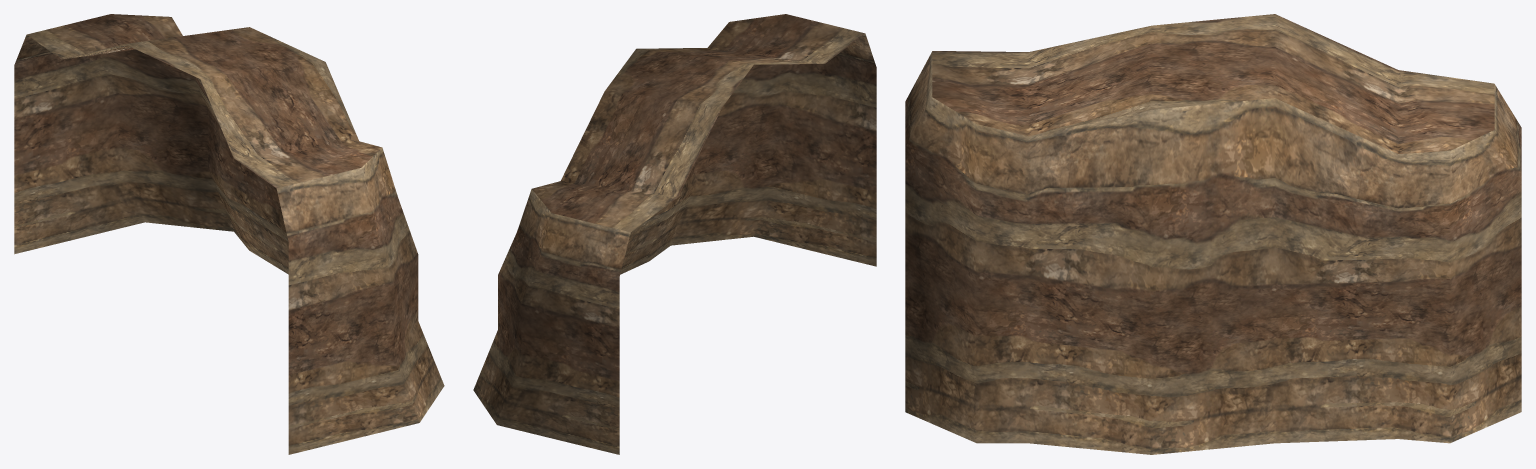
File: Canyon.fbx
The picture shows the model from 3 angles, left to right: view 1: azimuth 30°, elevation 25°; view 2: azimuth 150°, elevation 25°; view 3: azimuth 270°, elevation 25°; orthographic projection. The views are drawn at different scales.
Parts seen in each view (by area): view 1: Плоскость; view 2: Плоскость; view 3: Плоскость.
Part boxes in pixels (box(x1,y1,x2,y2)): Плоскость: box(14, 14, 444, 454); Плоскость: box(473, 14, 876, 454); Плоскость: box(905, 14, 1521, 454).
Size of the model in its own units: 491 by 629 by 1076.
Materials: 1 (1 with a texture image).
